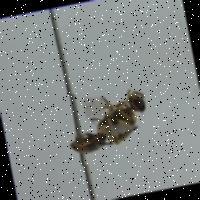Oriental-fruit-fly: (55, 78, 166, 168)
